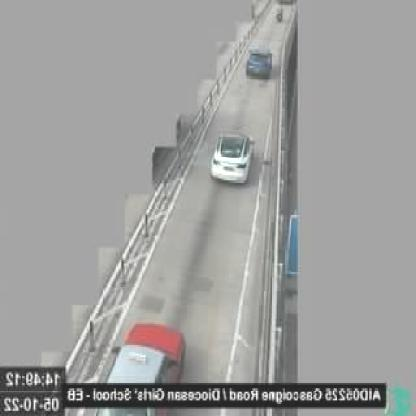Car: (208, 132, 254, 180), (246, 49, 276, 78)
